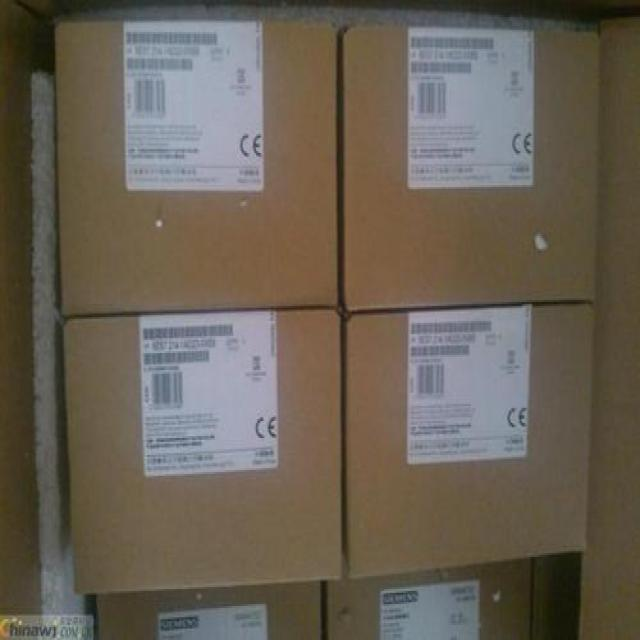box: (52, 15, 340, 311), (57, 314, 342, 595), (341, 22, 599, 302), (339, 309, 596, 575)
